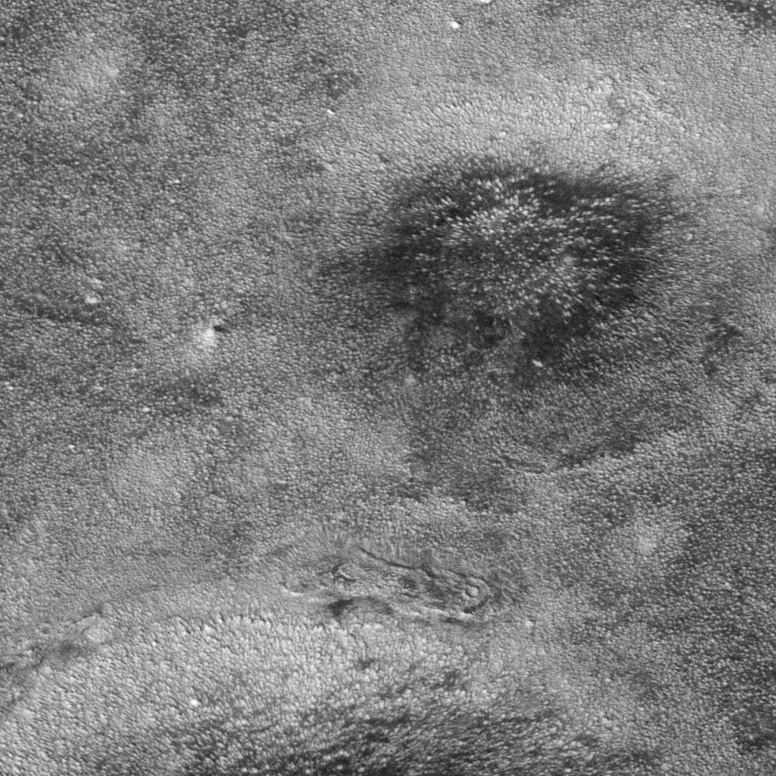dust_devil: (201, 324, 231, 348)
